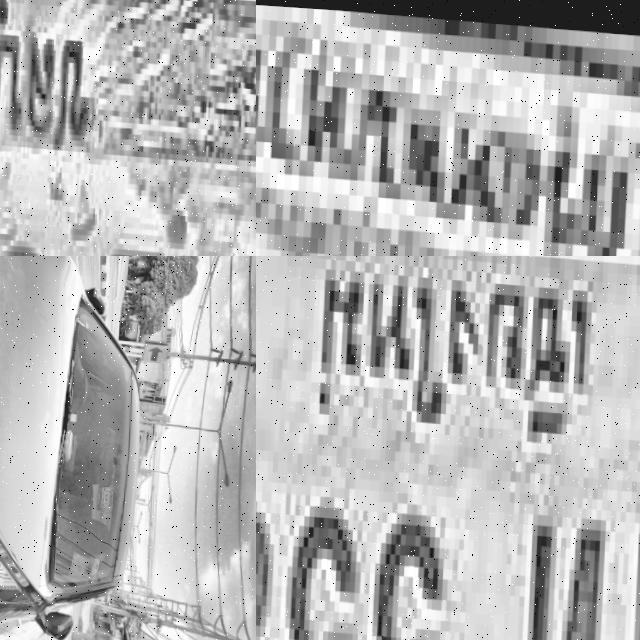license-plate: (256, 256, 640, 640), (256, 0, 640, 256), (0, 0, 256, 256)
